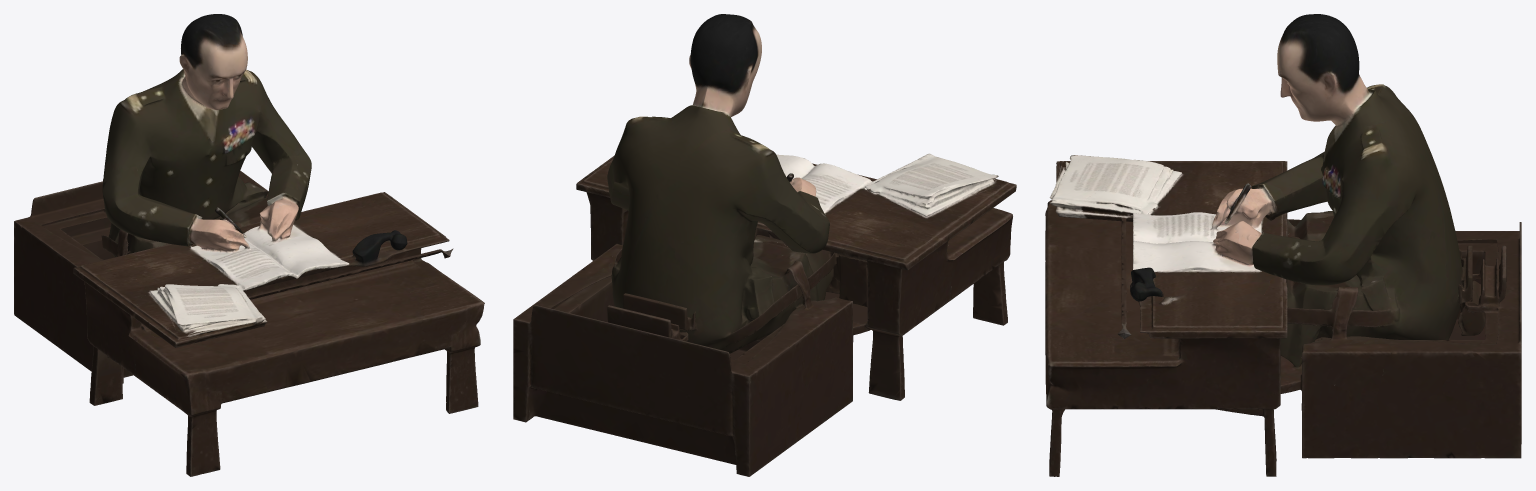
The model's file is Tướng Đờ -cát.glb.
The picture shows the model from 3 angles, left to right: view 1: azimuth 30°, elevation 25°; view 2: azimuth 150°, elevation 25°; view 3: azimuth 270°, elevation 25°; orthographic projection. The views are drawn at different scales.
Size of the model in its own units: 1.61 by 1.67 by 1.9.
1 material, 1 textured.
